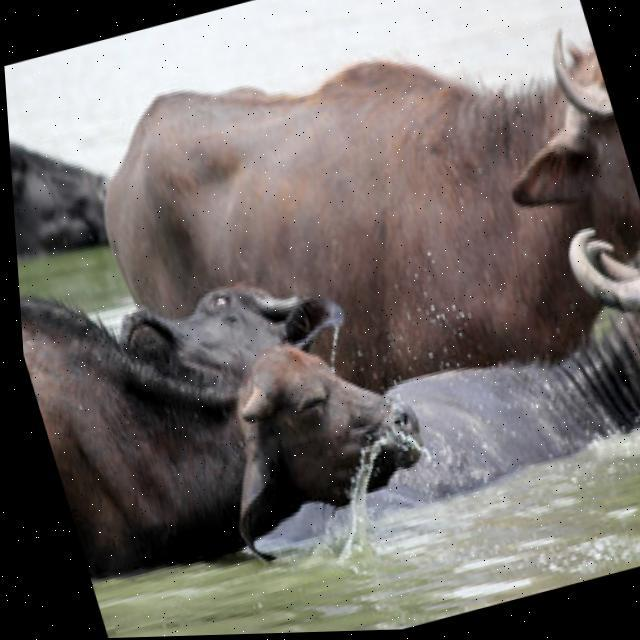Buffalo: (14, 192, 455, 607)
